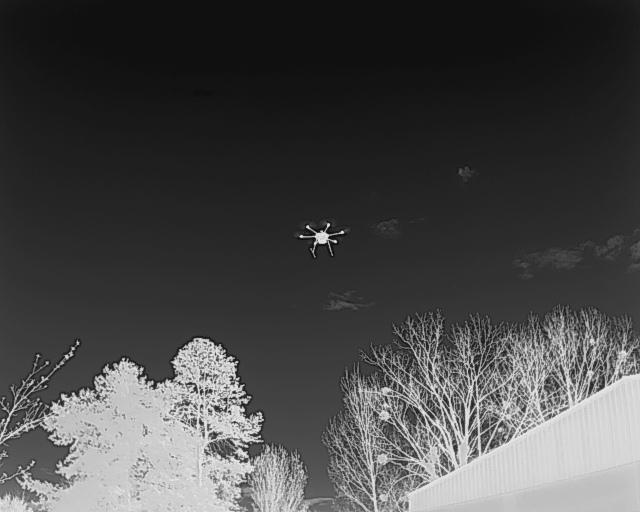drone: (293, 219, 349, 268)
